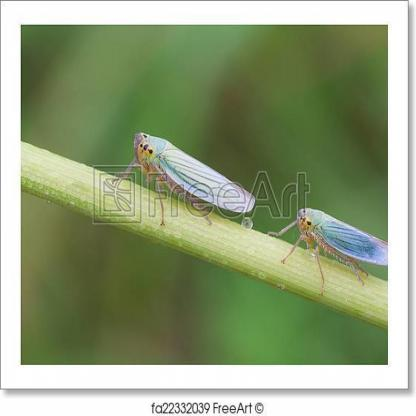Green-Leafhopper: (120, 129, 257, 222), (268, 201, 391, 304)
